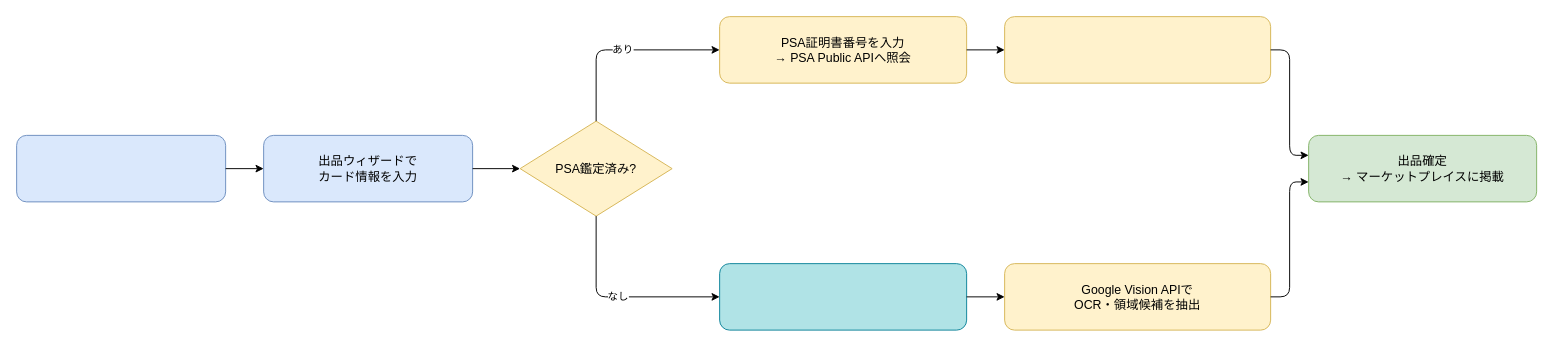
This 1553x347 diagram has some shape labels left out. The shapes that lost their labels are listed below. From the top down, each one's centre as x and y in pixels, then its label:
the point at 1137,49: 出品内容と突合 一致: 確認済みバッジ / 不一致: 要確認
the point at 121,168: ログイン （審査承認済みの販売者）
the point at 843,296: 四隅等の画像をアップロード → Cloud Storageに保存
